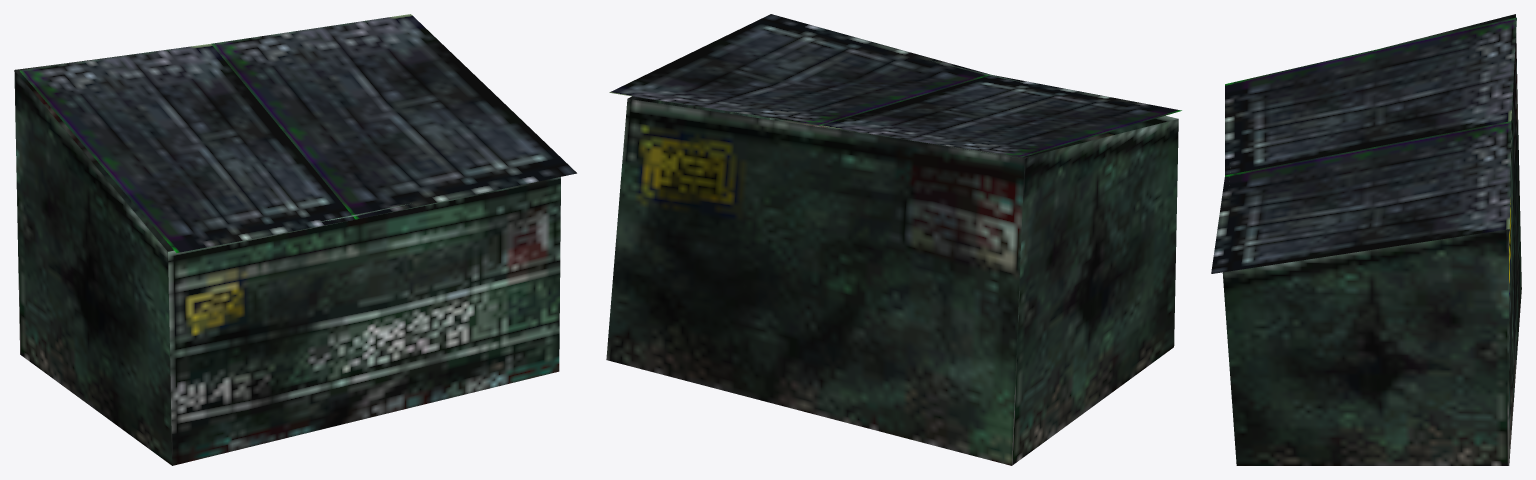
File: Environment - Prop - Dumpster - Damaged - PEDumpst_d.glb
3 renders of one model, left to right at view 1: azimuth 30°, elevation 25°; view 2: azimuth 150°, elevation 25°; view 3: azimuth 270°, elevation 25°, orthographic. The views are drawn at different scales.
Visible parts, largest first — view 1: PEDUMPST_D; view 2: PEDUMPST_D; view 3: PEDUMPST_D.
Boxes of the visible parts, left/top/right/bottom form: PEDUMPST_D: left=14, top=14, right=576, bottom=465; PEDUMPST_D: left=606, top=14, right=1181, bottom=465; PEDUMPST_D: left=1211, top=14, right=1521, bottom=465.
Size of the model in its own units: 17.84 by 12.31 by 12.8.
Materials: 1 (1 with a texture image).
